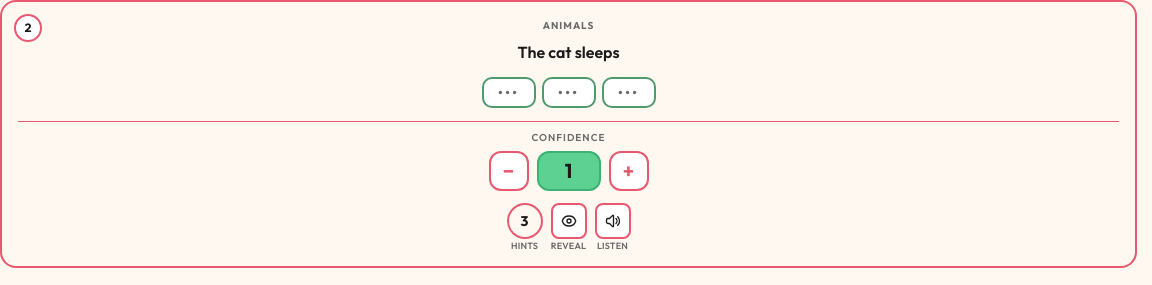
Test: sentence study card › reveals individual words, counts remaining hints, reveals all, and hides them again
expect the text with test id "sentence-position" reads "2": met, box [24,20,32,35]
expect the text with test id "sentence-theme" reads "Animals": met, box [543,19,594,32]
Click the button named "Reveal word 2": (568, 92) [542,76,596,108]
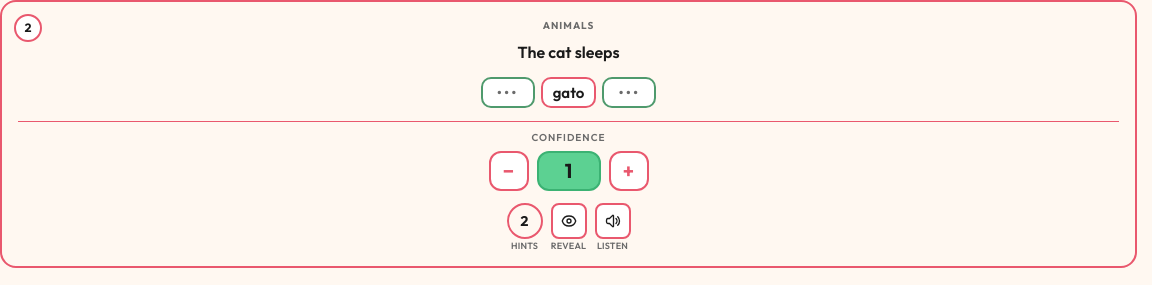
expect the text with test id "sentence-token-1" reads "gato": met, box [553,82,584,102]
expect the text with test id "sentence-hints-remaining" reads "2": met, box [520,212,529,230]
Click the button named "Reveal sentence": (568, 221) [550,203,586,239]
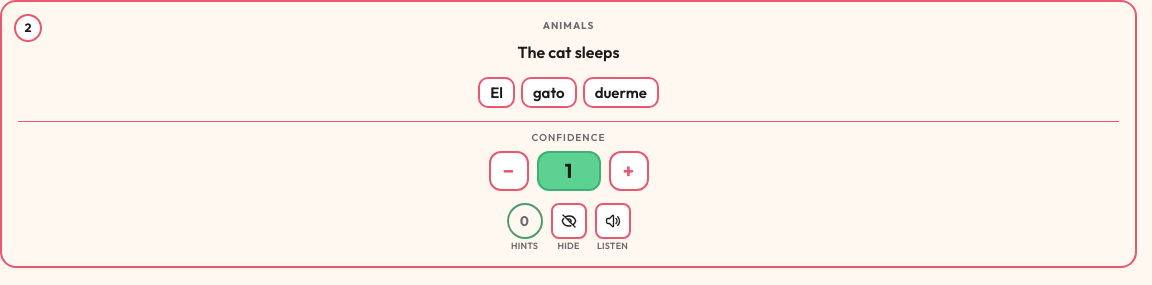
expect the text with test id "sentence-hints-remaining" reads "0": met, box [520,212,529,230]
expect the element with test id "sentence-spanish" reads "El gato duerme": met, box [478,76,659,108]
Click the button named "Hide sentence": (568, 221) [550,203,586,239]
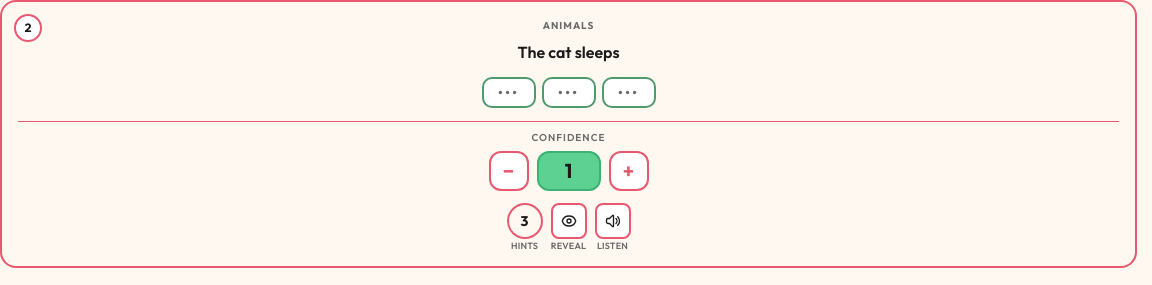
expect the number of buttons named "Reveal word" is 3: met, box [482,76,536,108]; [542,76,596,108]; [602,76,656,108]
expect the text with test id "sentence-hints-remaining" reads "3": met, box [520,212,529,230]
